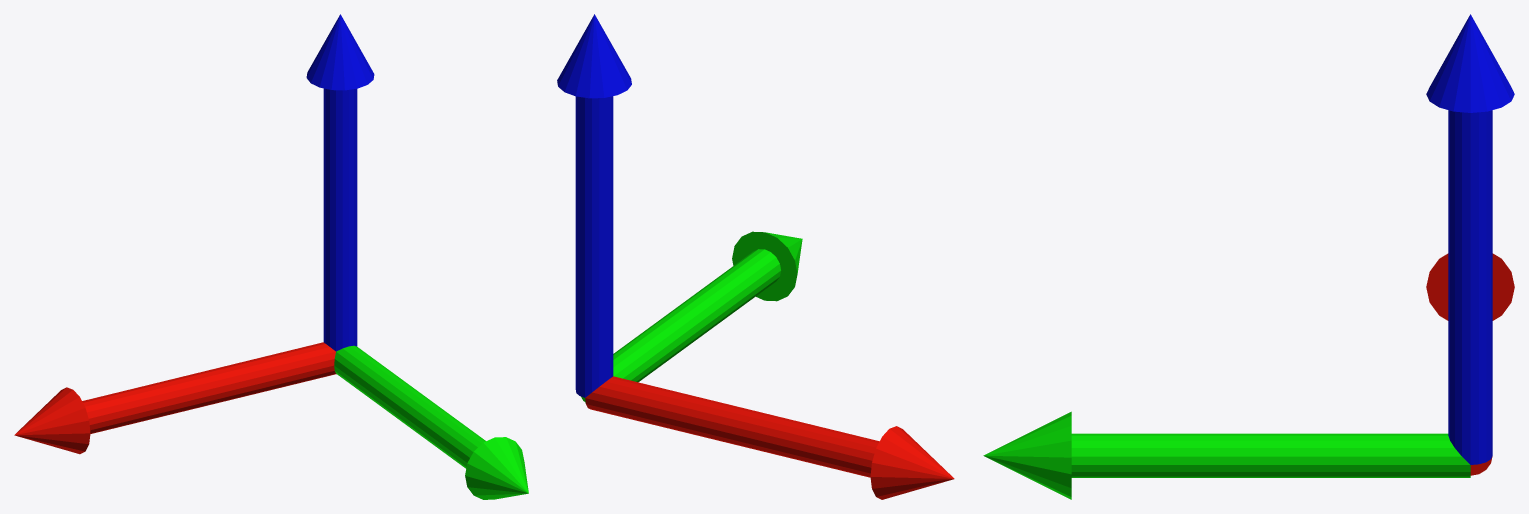
The model's file is Gizmo_Arrow.fbx.
3 views of the same model, side by side, from view 1: azimuth 30°, elevation 25°; view 2: azimuth 150°, elevation 25°; view 3: azimuth 270°, elevation 25° (orthographic). The views are drawn at different scales.
Visible parts, largest first — view 1: Cylinder, Cylinder.002, Cylinder.001, Cone.001, Cone.002, Cone; view 2: Cylinder, Cylinder.002, Cylinder.001, Cone.002, Cone, Cone.001; view 3: Cylinder.001, Cylinder, Cone, Cone.001, Cone.002.
Part boxes in pixels (<box>): Cylinder: <box>323,88,357,351</box>; Cylinder.002: <box>82,342,336,433</box>; Cylinder.001: <box>334,345,485,468</box>; Cone.001: <box>465,437,528,499</box>; Cone.002: <box>14,387,90,454</box>; Cone: <box>306,14,374,90</box>; Cylinder: <box>575,96,613,397</box>; Cylinder.002: <box>585,376,879,477</box>; Cylinder.001: <box>581,249,780,402</box>; Cone.002: <box>870,426,954,499</box>; Cone: <box>557,14,631,98</box>; Cone.001: <box>732,231,802,301</box>; Cylinder.001: <box>1071,433,1470,477</box>; Cylinder: <box>1448,110,1492,464</box>; Cone: <box>1426,14,1514,112</box>; Cone.001: <box>983,411,1071,499</box>; Cone.002: <box>1426,253,1514,320</box>.
Bounding box in the file's own units: 240 × 240 × 240.
